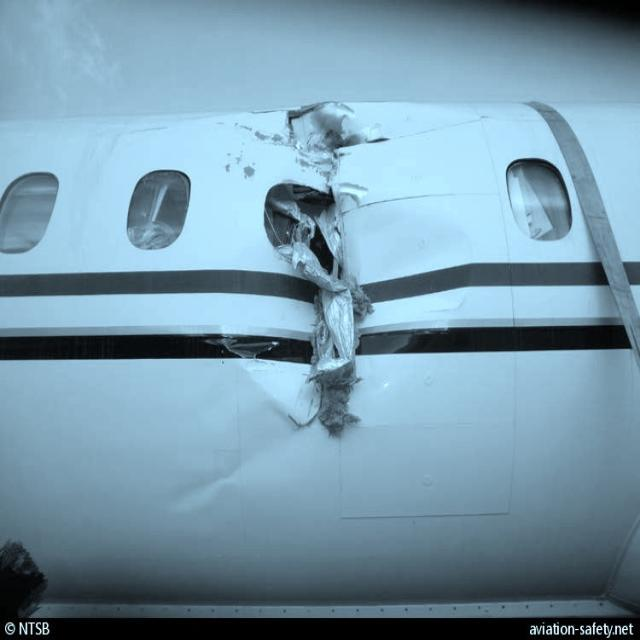crack: (258, 105, 396, 444)
dent: (159, 415, 330, 514), (368, 203, 476, 339)
